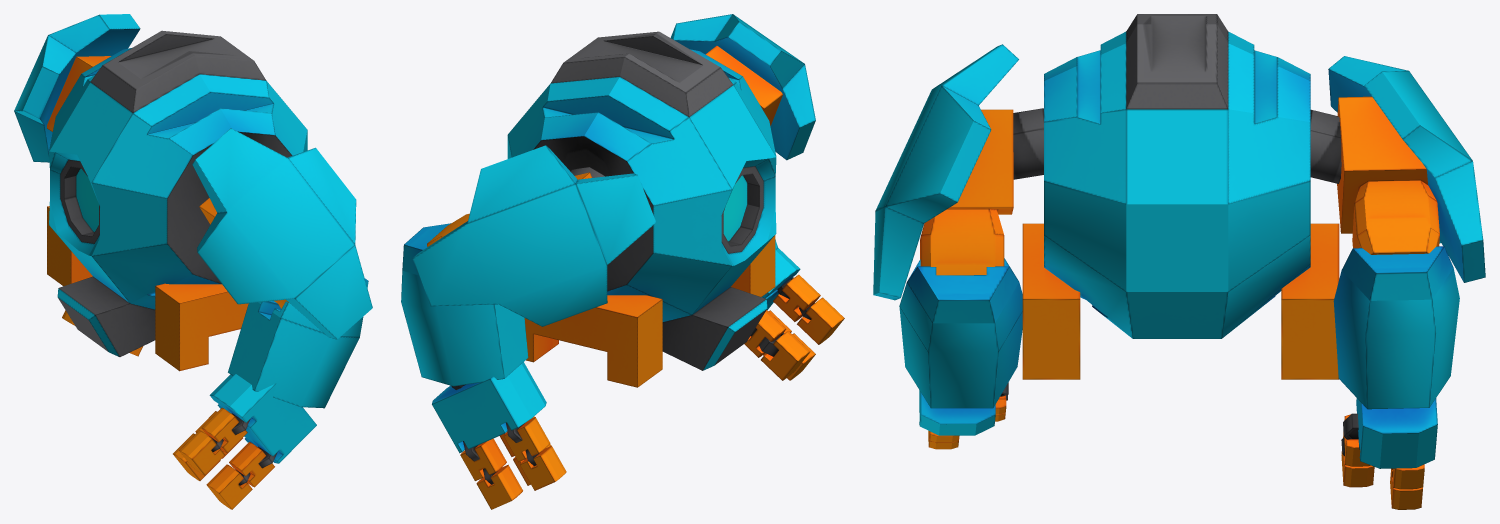
Rendered from Body_Idle23.obj.
3 renders of one model, left to right at view 1: azimuth 30°, elevation 25°; view 2: azimuth 150°, elevation 25°; view 3: azimuth 270°, elevation 25°, orthographic. The views are drawn at different scales.
Visible parts, largest first — view 1: Plane001, Object006, Object008, Object007, Object002; view 2: Plane001, Object002, Object004, Object003, Object006, Object008; view 3: Plane001, Object002, Object006, Object003, Object007, Object004, Object008, Object001, Object005.
Part boxes in pixels (x1=…): Plane001: x1=47, y1=30, x2=307, y2=371; Object006: x1=192, y1=128, x2=372, y2=339; Object008: x1=173, y1=374, x2=316, y2=509; Object007: x1=228, y1=278, x2=368, y2=408; Object002: x1=14, y1=14, x2=140, y2=162; Plane001: x1=507, y1=31, x2=776, y2=387; Object002: x1=412, y1=145, x2=656, y2=326; Object004: x1=432, y1=362, x2=566, y2=509; Object003: x1=401, y1=223, x2=528, y2=386; Object006: x1=670, y1=14, x2=815, y2=160; Object008: x1=744, y1=248, x2=844, y2=380; Plane001: x1=1022, y1=14, x2=1339, y2=379; Object002: x1=1328, y1=56, x2=1485, y2=282; Object006: x1=873, y1=44, x2=1018, y2=300; Object003: x1=1333, y1=246, x2=1459, y2=409; Object007: x1=899, y1=258, x2=1022, y2=408; Object004: x1=1341, y1=398, x2=1437, y2=509; Object008: x1=919, y1=382, x2=1008, y2=449; Object001: x1=1310, y1=109, x2=1341, y2=183; Object005: x1=1013, y1=108, x2=1043, y2=179.
Size of the model in its own units: 96.52 by 151 by 182.
